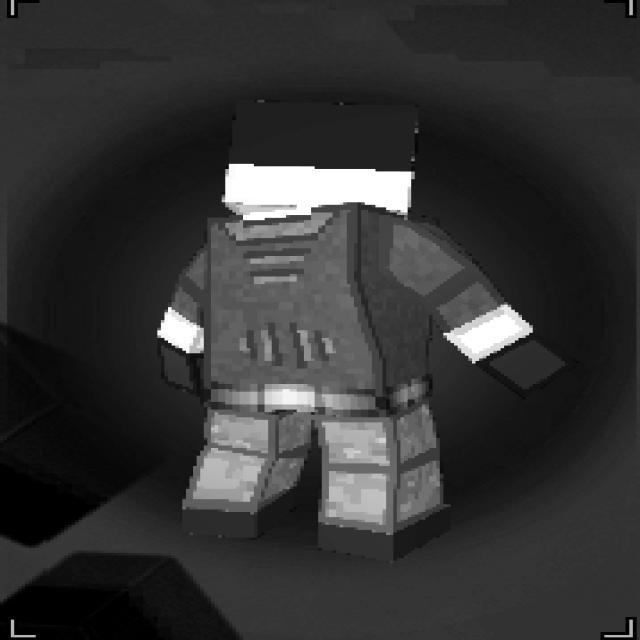Head: (218, 97, 418, 218)
Player: (150, 97, 576, 561)
